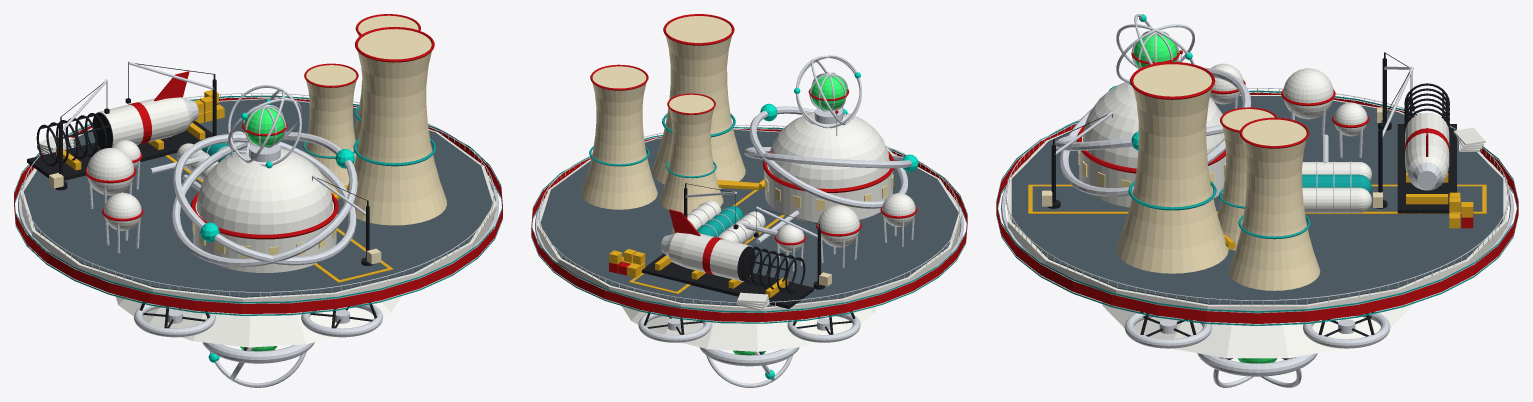
Rendered from station_industrial.obj.
3 views of the same model, side by side, from view 1: azimuth 30°, elevation 25°; view 2: azimuth 150°, elevation 25°; view 3: azimuth 270°, elevation 25° (orthographic). The views are drawn at different scales.
Visible parts, largest first — view 1: station_industrial; view 2: station_industrial; view 3: station_industrial.
Boxes of the visible parts, x1,y1,x2,y2 form: station_industrial: (14, 14, 502, 387); station_industrial: (531, 14, 967, 387); station_industrial: (996, 14, 1518, 387).
Size of the model in its own units: 1400 by 1072 by 1400.
Materials: 1 (1 with a texture image).
